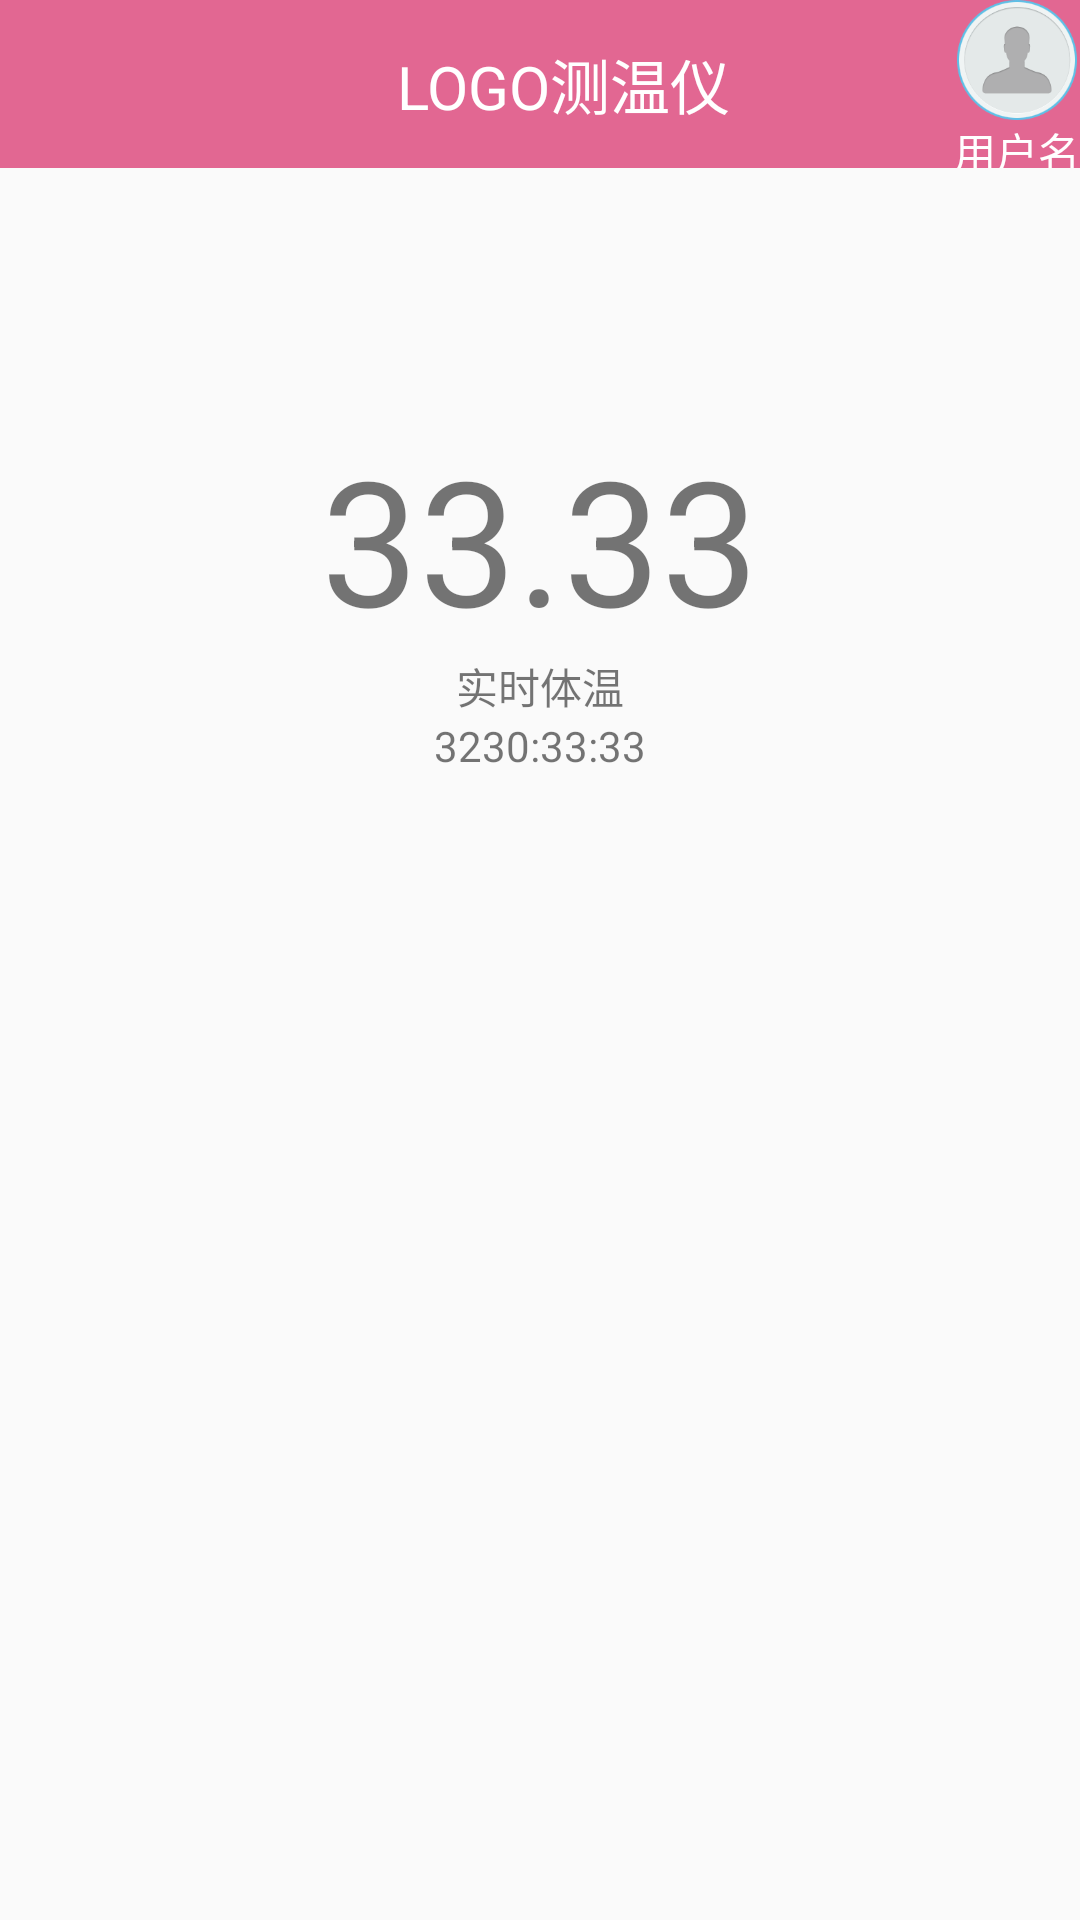

Screen size 1080px×1920px. Icon name, then its box in pixels as BBox(x1, y1, x2, y2):
head: BBox(957, 0, 1077, 120)
